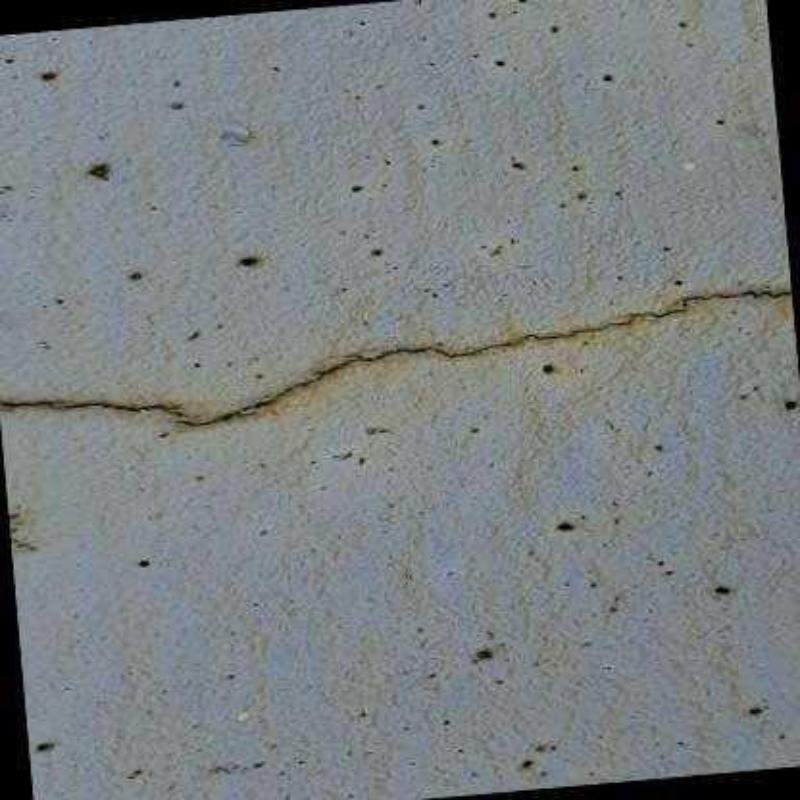pothole: (0, 282, 792, 427)
